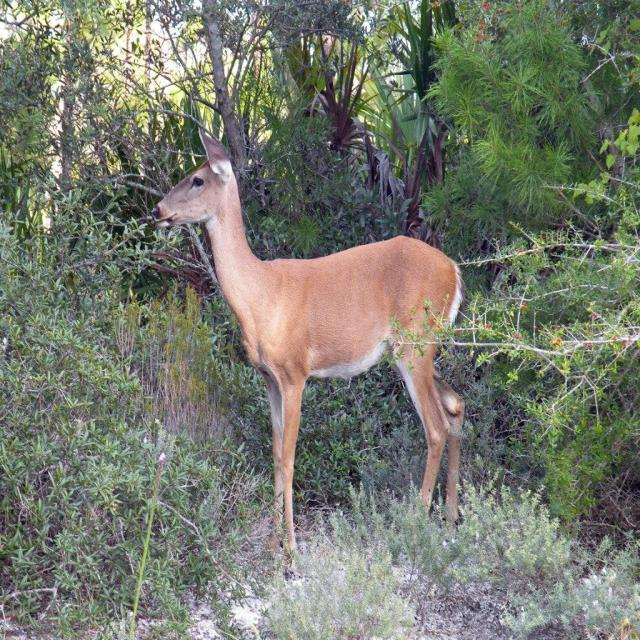Deer: (154, 127, 468, 567)
